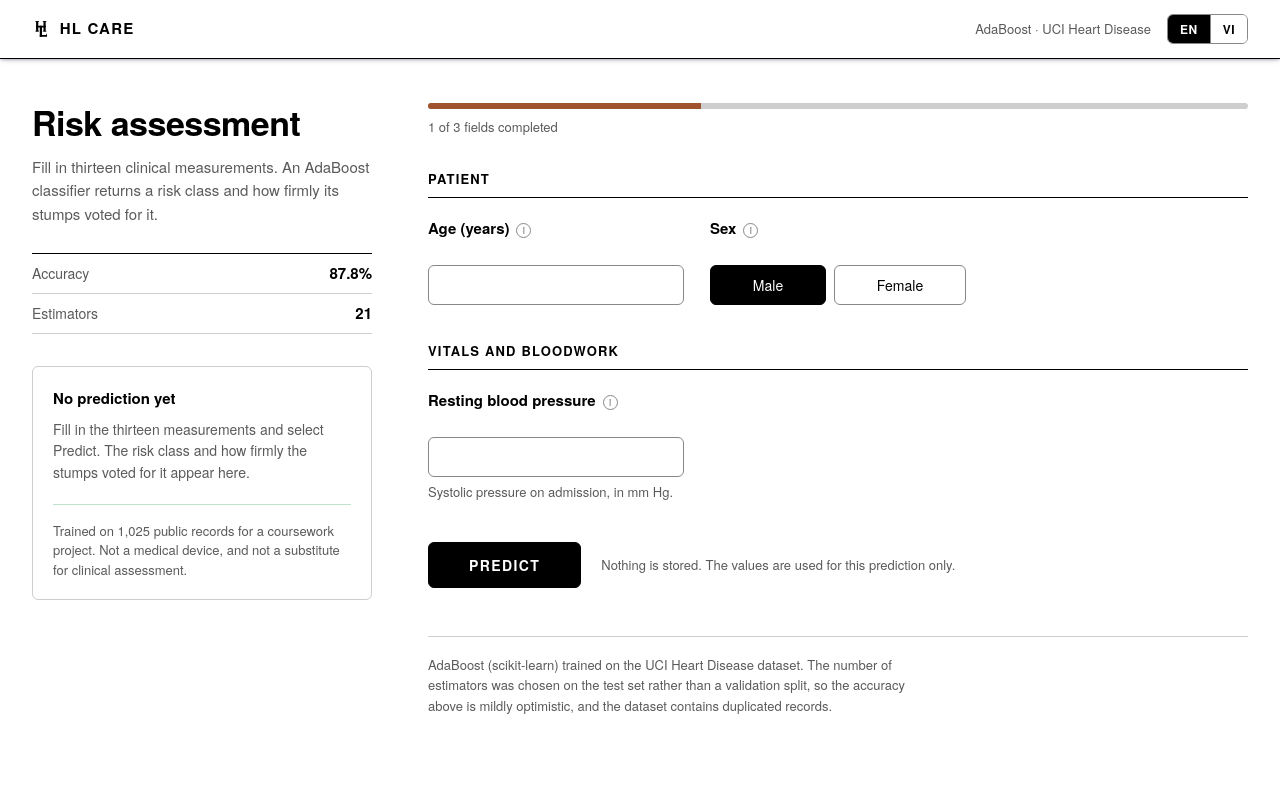
Test: a successful prediction › posts the typed values as JSON with the CSRF header
Expected: the button "Predict" is shown, [428,542,581,588]
Step 1. Type "58" into the number field labelled "Age (years) i" → [556, 285], box [428,265,684,305]
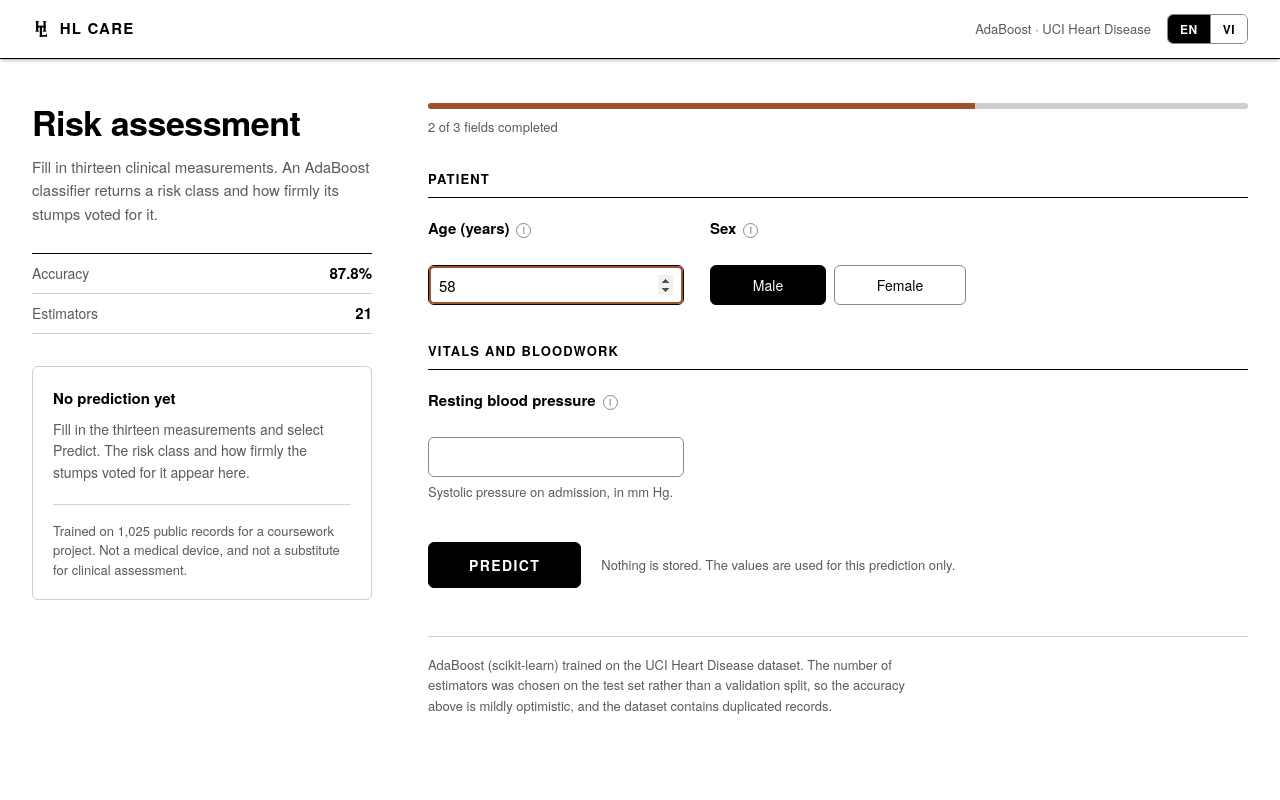
Step 2. Click the radio button labelled "Female" → [900, 285], box [834,265,966,305]
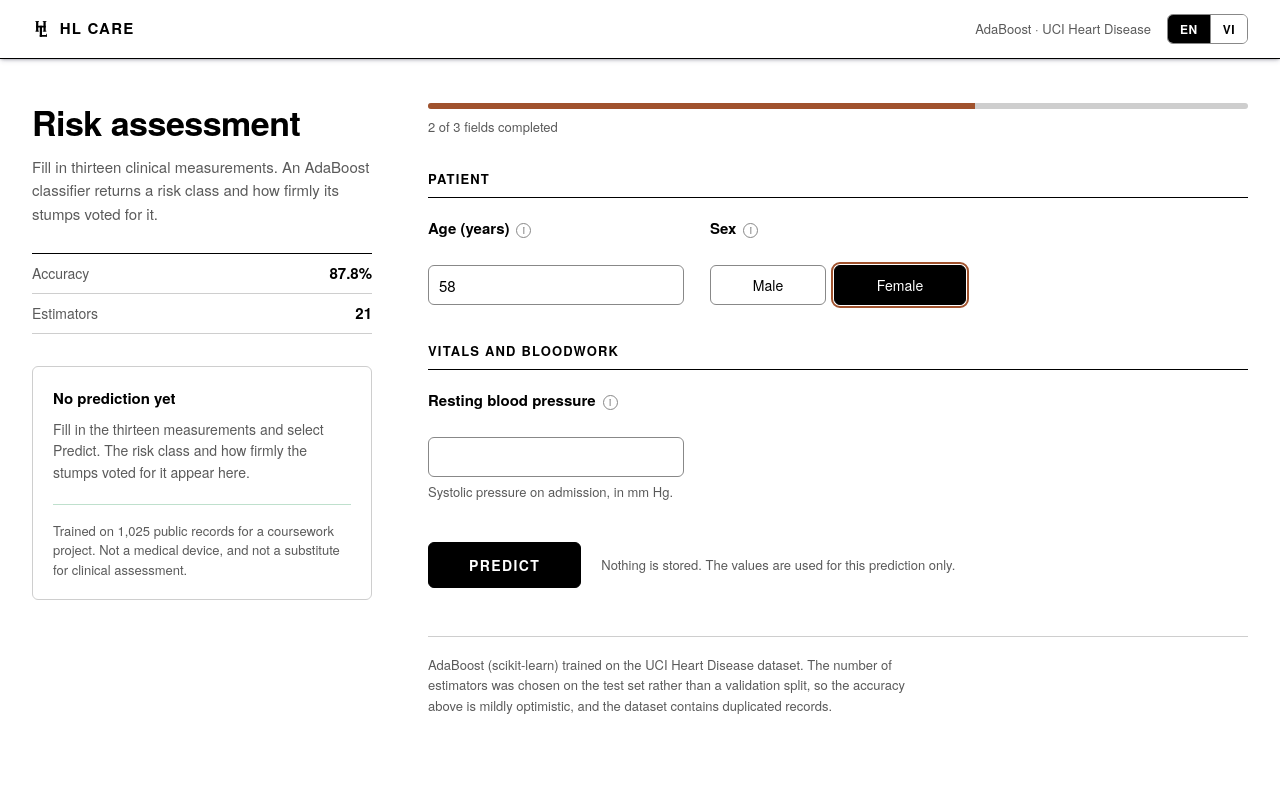
Step 3. Type "130" into the number field labelled "Resting blood pressure i" → [556, 457], box [428,437,684,477]
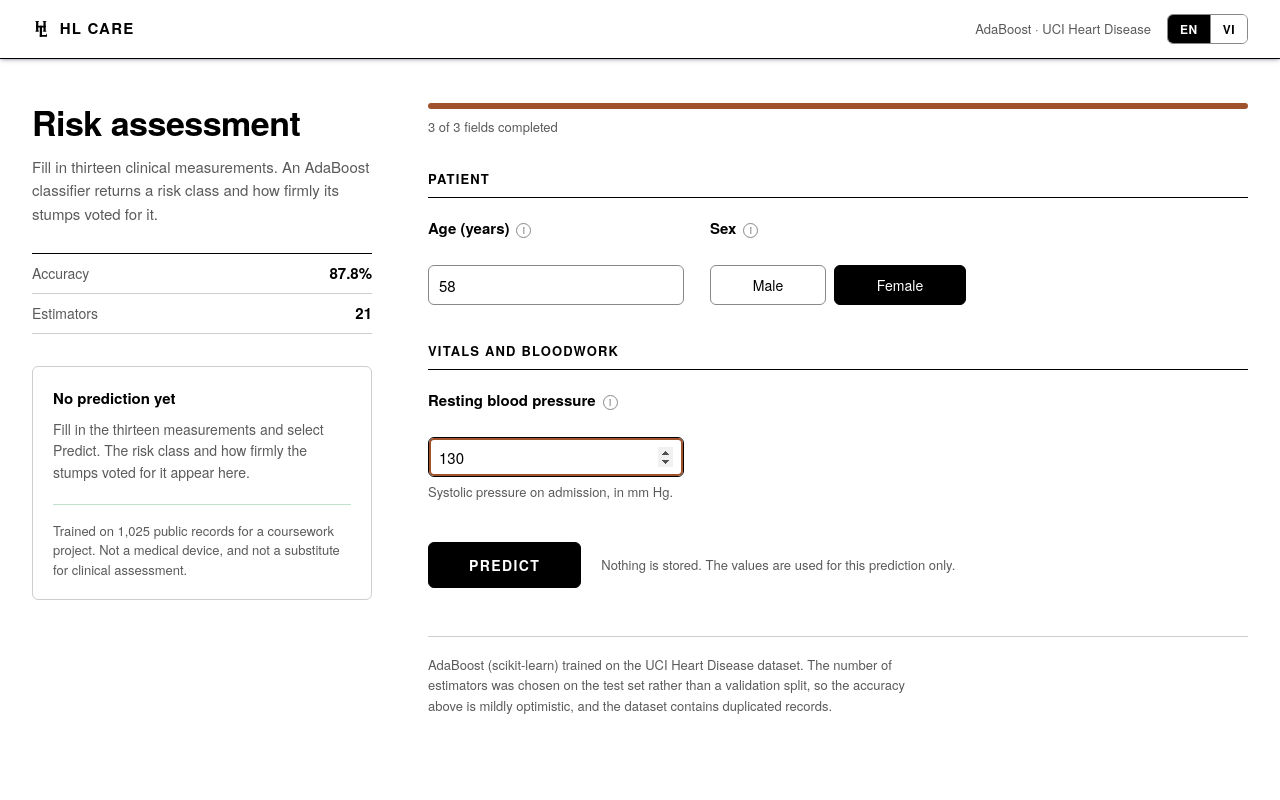
Step 4. Click the button "Predict" → [505, 565], box [428,542,581,588]
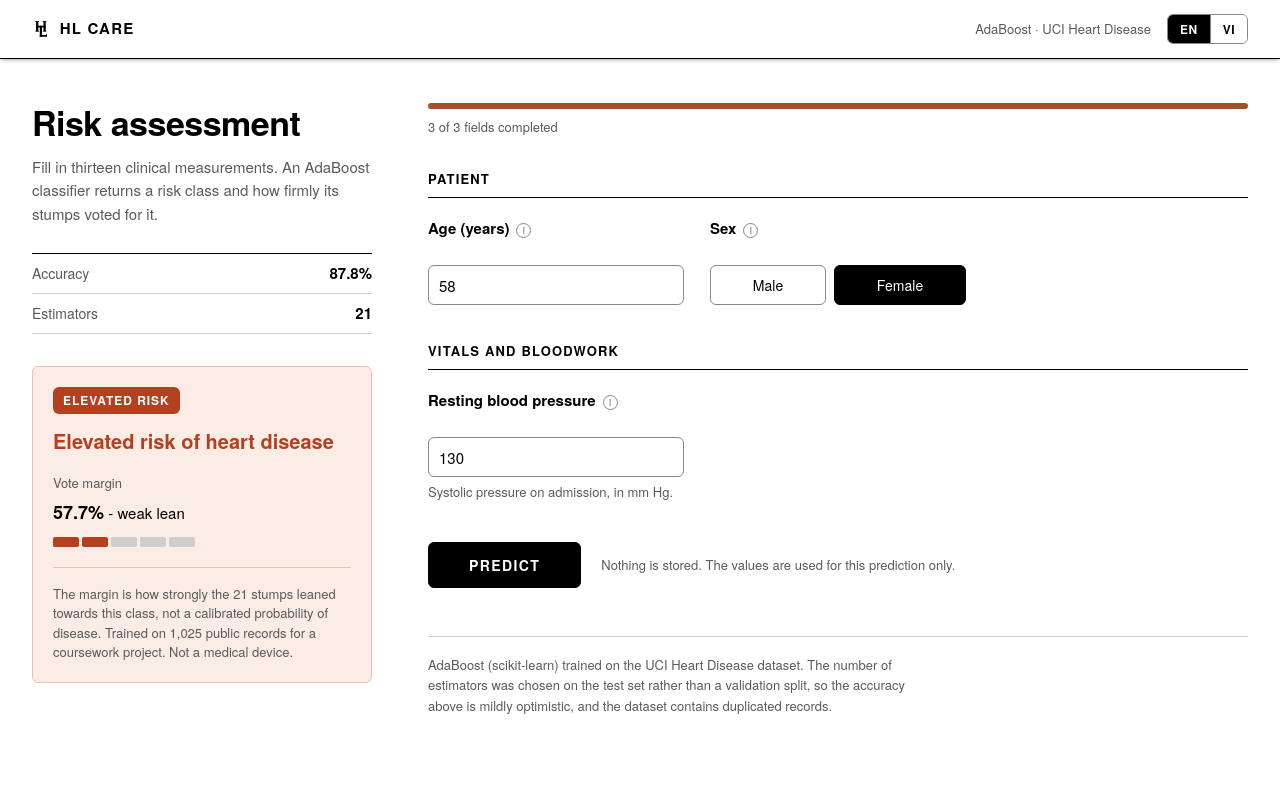
Now the message is shown, box [32,366,372,683]
